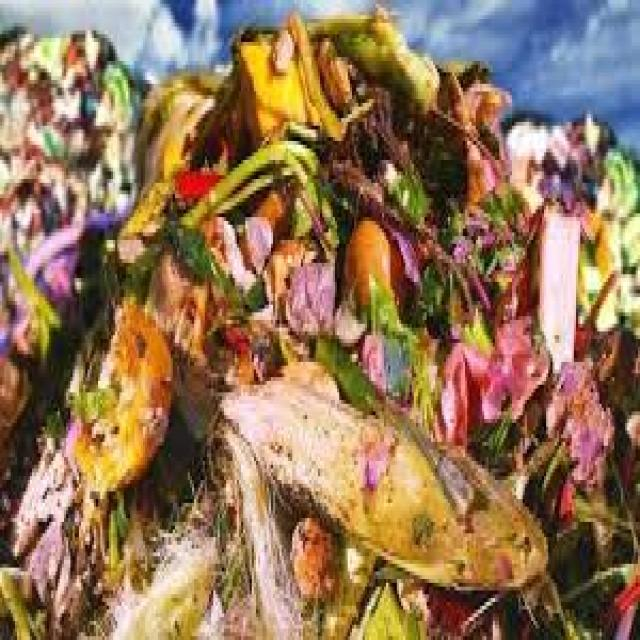organic waste: (0, 11, 638, 636), (0, 23, 139, 560), (224, 384, 544, 586), (503, 118, 638, 362), (143, 240, 226, 434), (74, 308, 168, 472), (548, 480, 638, 636), (230, 23, 340, 141), (314, 4, 442, 103), (544, 350, 610, 488), (474, 305, 550, 423), (128, 537, 215, 636), (533, 198, 576, 385), (136, 72, 218, 168), (426, 332, 491, 449), (343, 210, 408, 320), (433, 61, 510, 145), (188, 65, 245, 164), (120, 182, 197, 248), (574, 217, 616, 332), (502, 118, 568, 191), (591, 305, 638, 404), (472, 400, 531, 476), (555, 110, 608, 183), (288, 252, 333, 328), (595, 145, 638, 221), (168, 171, 230, 221), (619, 213, 638, 282)
